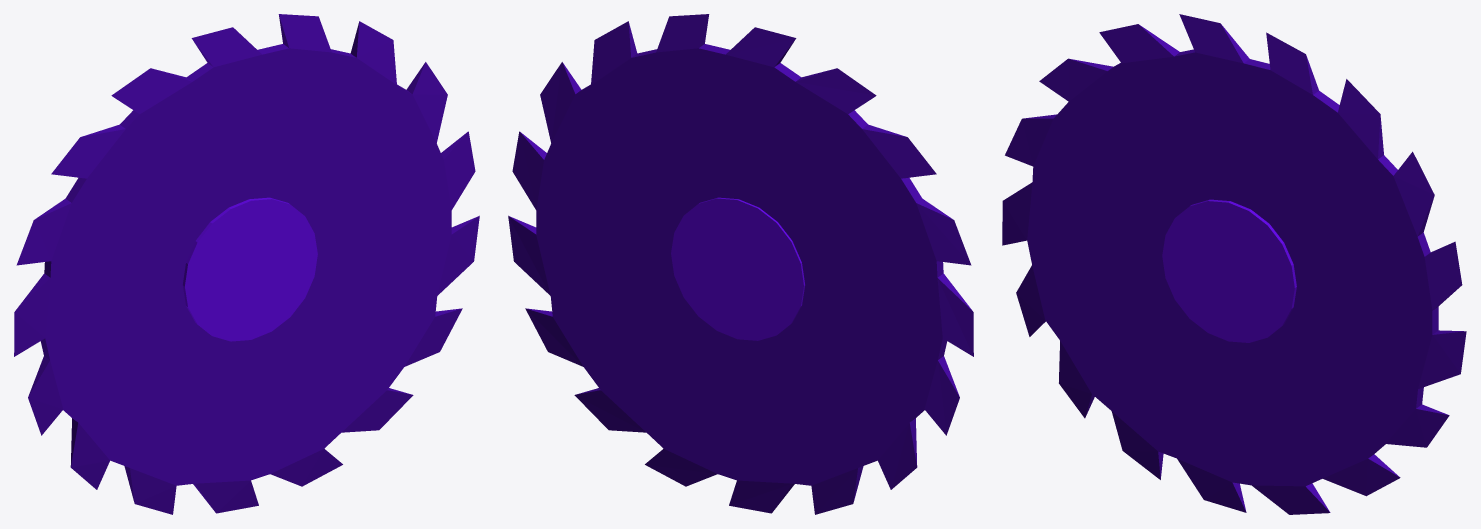
The model's file is Saw_Blade.fbx.
3 renders of one model, left to right at view 1: azimuth 30°, elevation 25°; view 2: azimuth 150°, elevation 25°; view 3: azimuth 330°, elevation 25°, orthographic.
Parts seen in each view (by area): view 1: Saw_Blade; view 2: Saw_Blade; view 3: Saw_Blade.
Boxes of the visible parts, bbox=[...] form: Saw_Blade: bbox=[14, 14, 479, 514]; Saw_Blade: bbox=[508, 14, 973, 514]; Saw_Blade: bbox=[1002, 14, 1466, 514].
Size of the model in its own units: 8.8 by 8.79 by 0.3102.
